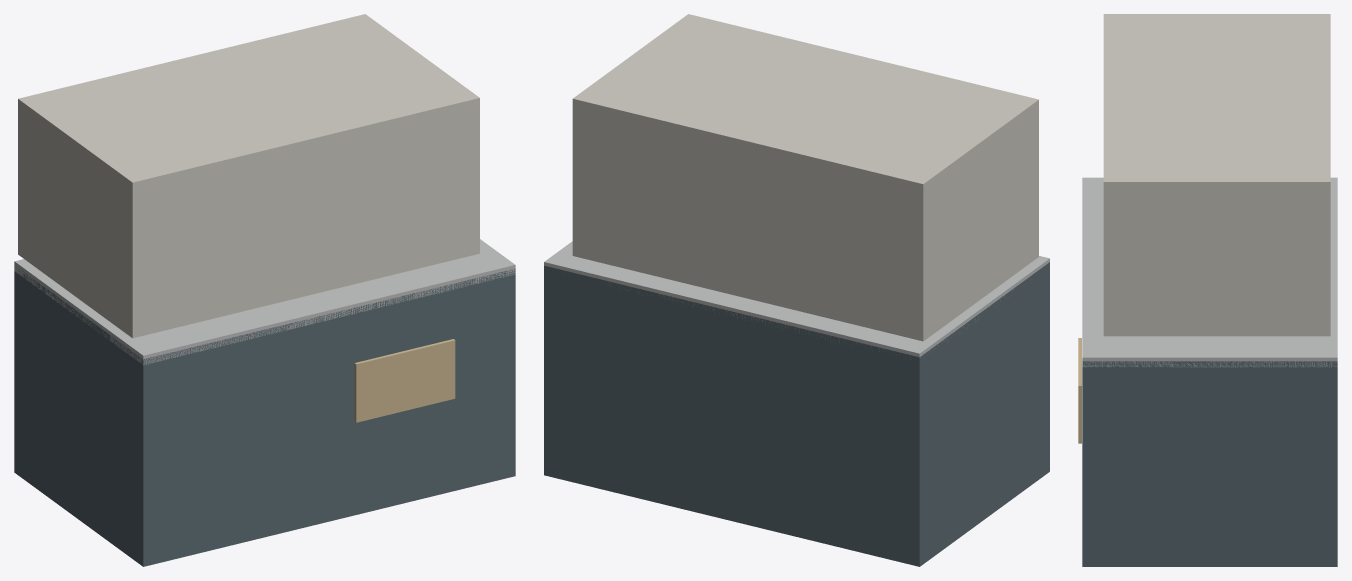
File: villa-double-height.glb
The picture shows the model from 3 angles, left to right: view 1: azimuth 30°, elevation 25°; view 2: azimuth 150°, elevation 25°; view 3: azimuth 270°, elevation 25°; orthographic projection.
Parts seen in each view (by area): view 1: geometry_2, geometry_0, geometry_1, geometry_3; view 2: geometry_2, geometry_0, geometry_1; view 3: geometry_2, geometry_0, geometry_1, geometry_3.
Boxes of the visible parts, x1,y1,x2,y2 form: geometry_2: [18, 14, 479, 338]; geometry_0: [14, 269, 515, 566]; geometry_1: [14, 239, 515, 365]; geometry_3: [354, 339, 455, 422]; geometry_2: [572, 14, 1038, 341]; geometry_0: [544, 262, 1049, 566]; geometry_1: [544, 241, 1049, 359]; geometry_2: [1103, 14, 1330, 336]; geometry_0: [1082, 361, 1337, 566]; geometry_1: [1082, 177, 1337, 367]; geometry_3: [1078, 338, 1081, 443].
Bounding box in the file's own units: 6 × 5.8 × 3.65.
